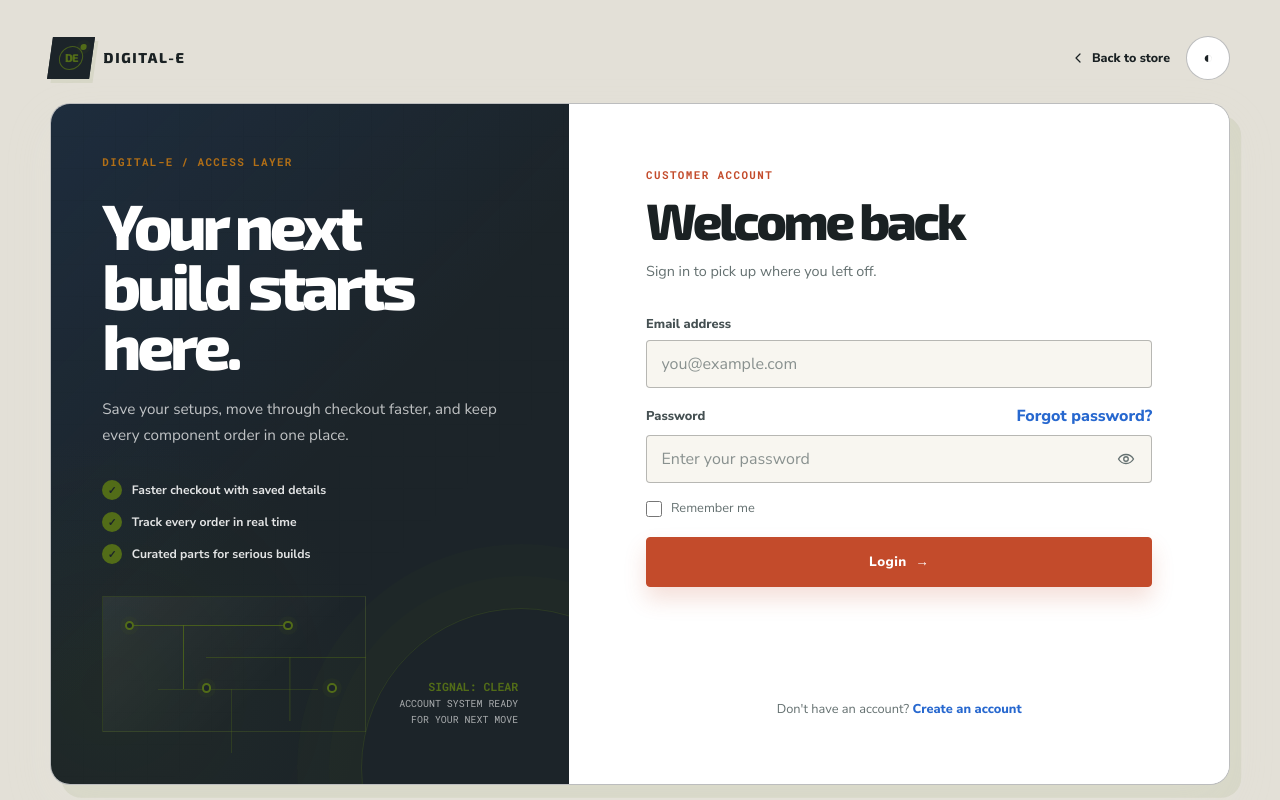
LoginPage Firebase errors › shows a meaningful semantic alert for invalid Firebase credentials
Type "buyer@example.com" into the field labelled "Email address" at (899, 364), box [646, 340, 1152, 388]
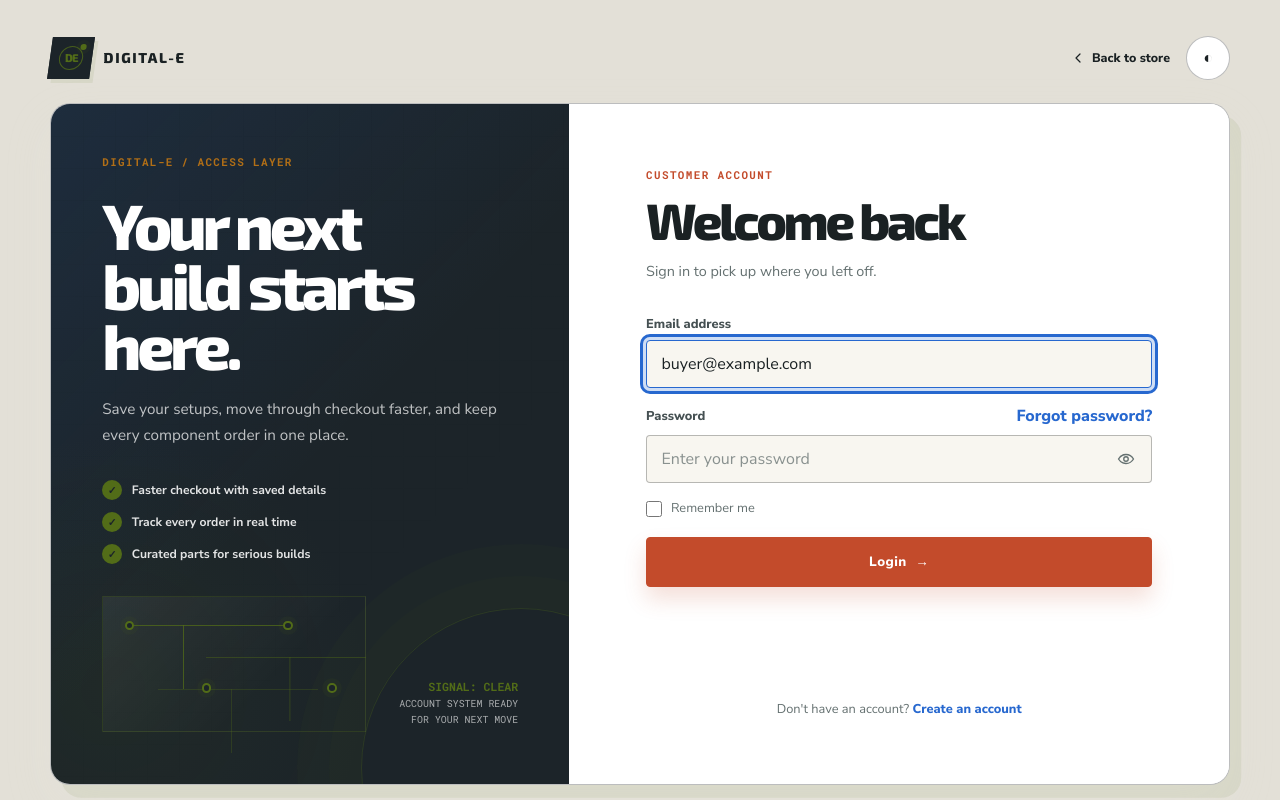
Type "WrongPassword1!" into the password field labelled "Password" at (899, 459), box [646, 435, 1152, 483]
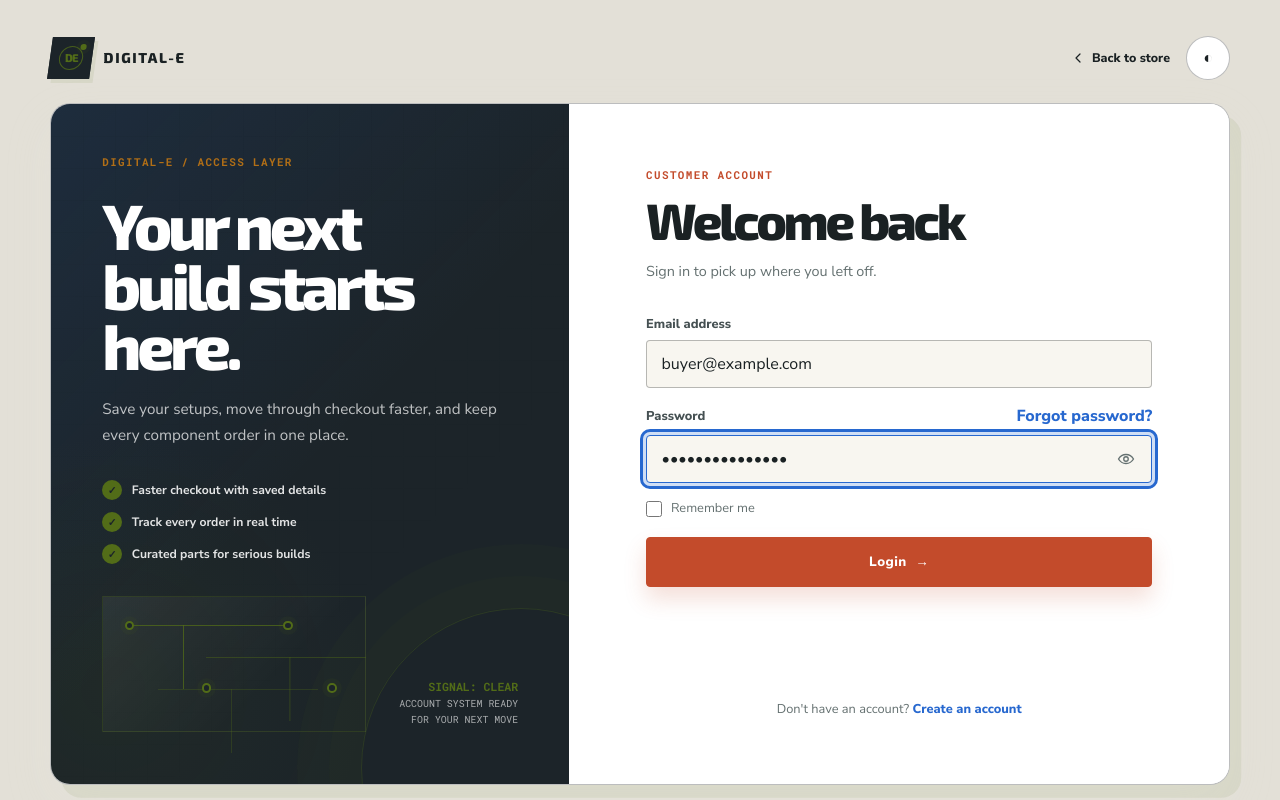
Click the button "Login →" at (899, 562), box [646, 537, 1152, 587]
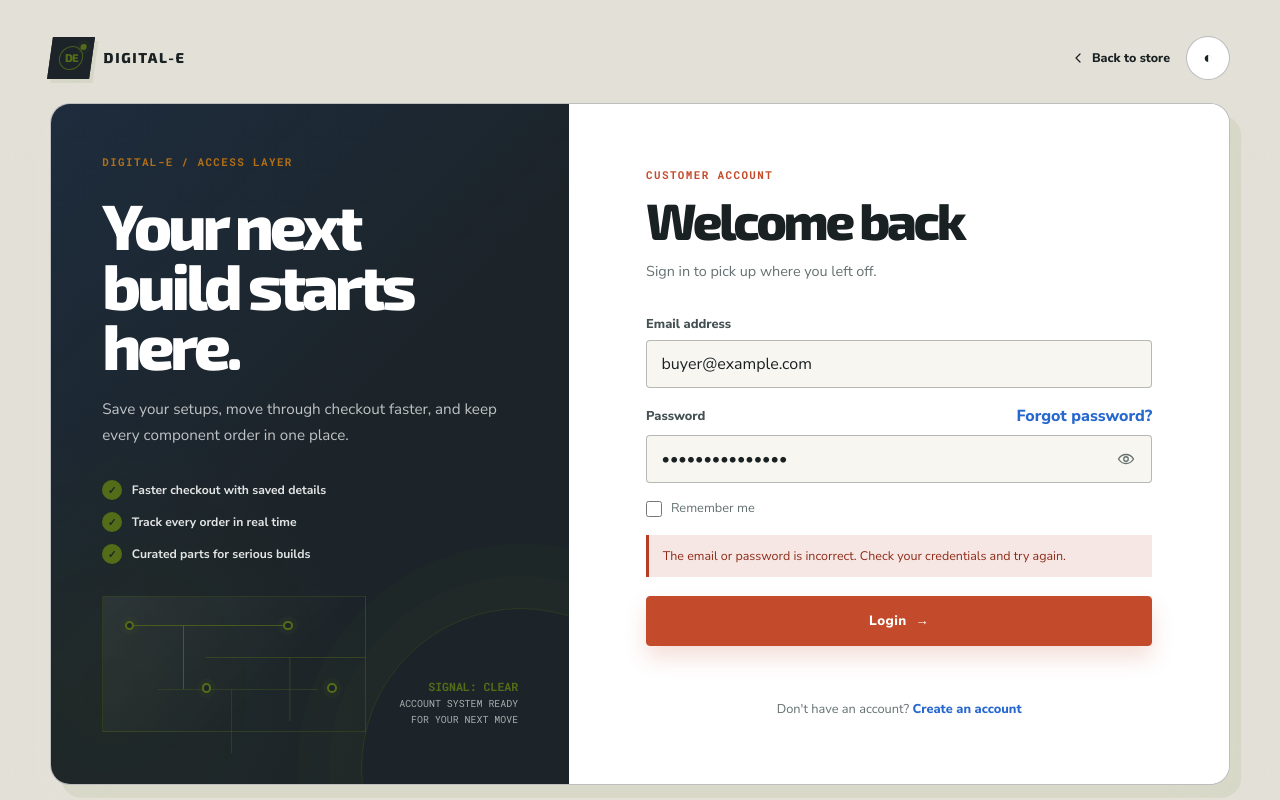
Now the message reads "The email or password is incorrect. Check your credentials and try again.", box [663, 547, 1066, 564]
